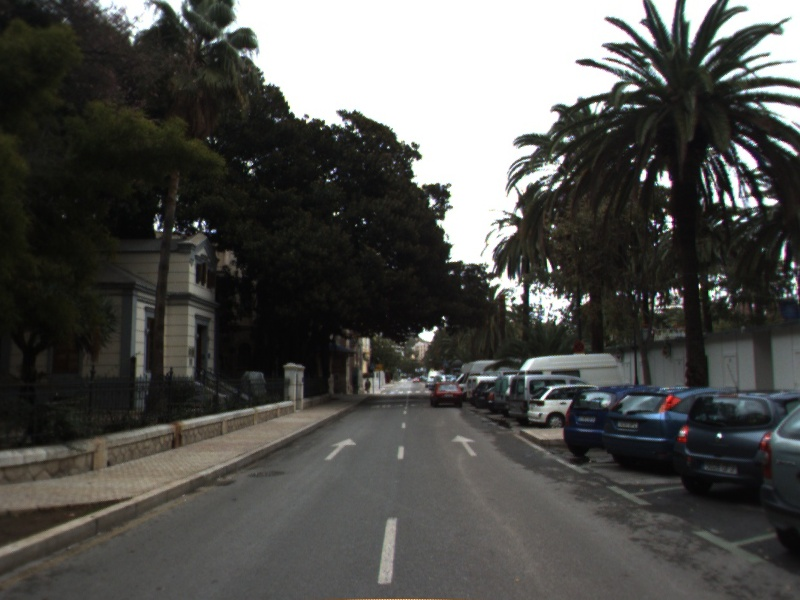STRAIGHT: (322, 436, 358, 462), (449, 433, 480, 458)
